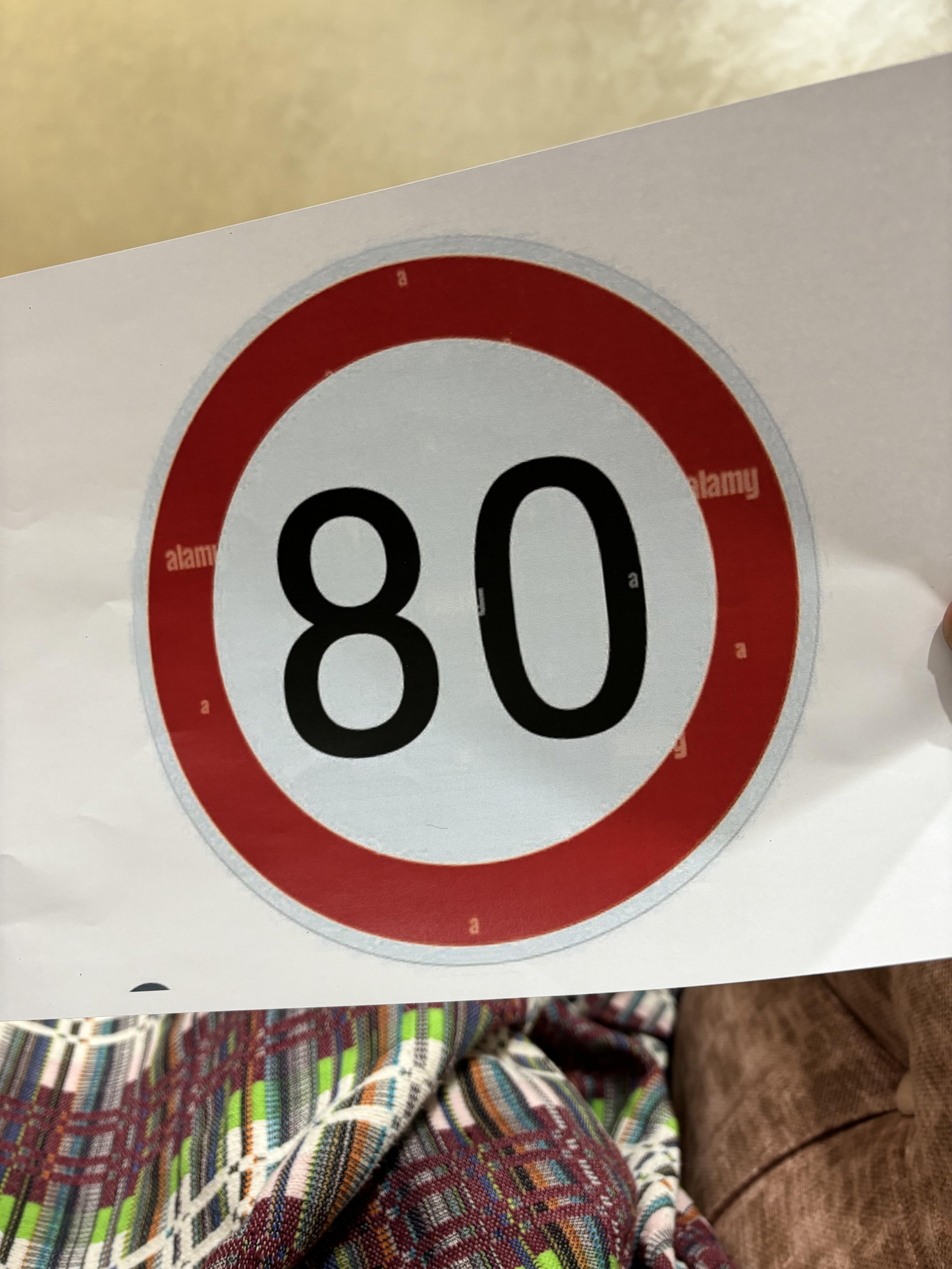80-Speed: (127, 234, 813, 972)
